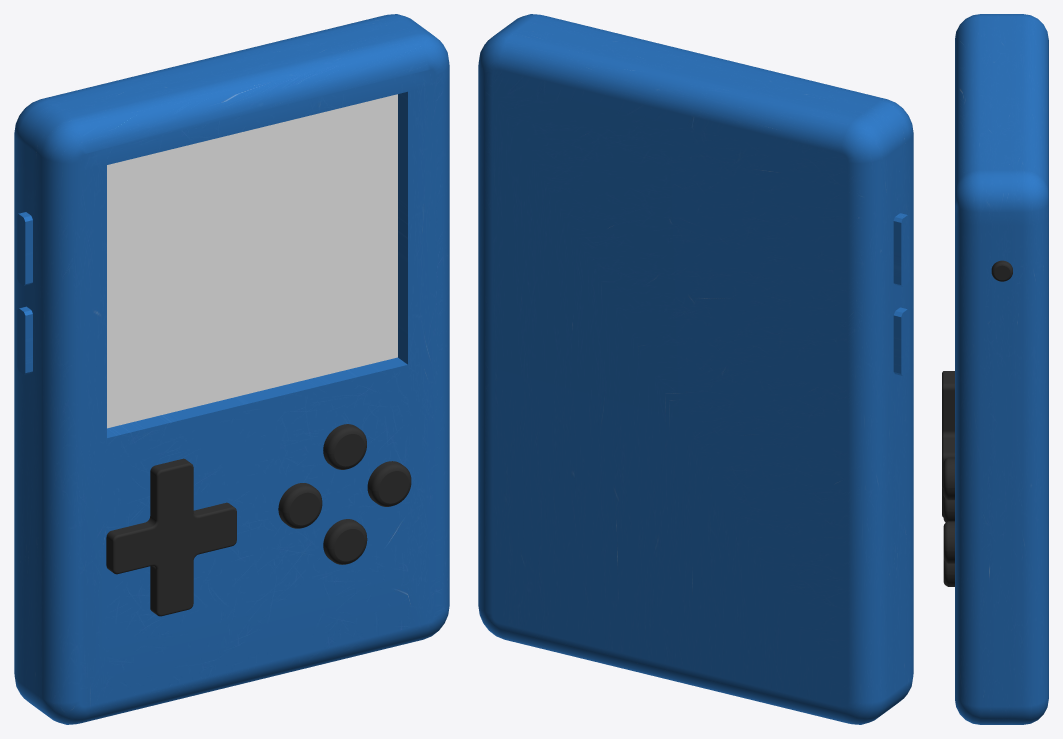
Rendered from Console_Game.gltf.
3 views of the same model, side by side, from view 1: azimuth 30°, elevation 25°; view 2: azimuth 150°, elevation 25°; view 3: azimuth 270°, elevation 25° (orthographic). The views are drawn at different scales.
Parts seen in each view (by area): view 1: pasted__pCube1, pCube15, pCube13, pCube6, pCube4, pCube5, pCube2; view 2: pasted__pCube1; view 3: pasted__pCube1, pCube13, pCube4, pCube2, pCube14, pCube5, pCube6.
Boxes of the visible parts, x1=… form: pasted__pCube1: x1=14, y1=14, x2=449, y2=724; pCube15: x1=107, y1=94, x2=397, y2=428; pCube13: x1=106, y1=458, x2=236, y2=616; pCube6: x1=278, y1=483, x2=322, y2=528; pCube4: x1=323, y1=424, x2=366, y2=469; pCube5: x1=323, y1=519, x2=367, y2=564; pCube2: x1=367, y1=461, x2=411, y2=506; pasted__pCube1: x1=478, y1=14, x2=913, y2=724; pasted__pCube1: x1=955, y1=14, x2=1048, y2=724; pCube13: x1=942, y1=371, x2=954, y2=517; pCube4: x1=943, y1=457, x2=954, y2=500; pCube2: x1=943, y1=521, x2=954, y2=563; pCube14: x1=991, y1=260, x2=1012, y2=281; pCube5: x1=943, y1=559, x2=954, y2=586; pCube6: x1=943, y1=496, x2=954, y2=522.
Size of the model in its own units: 0.1393 by 0.1924 by 0.0337.
8 materials, 1 textured.
